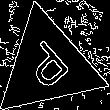P_SE: (19, 34, 78, 96)
